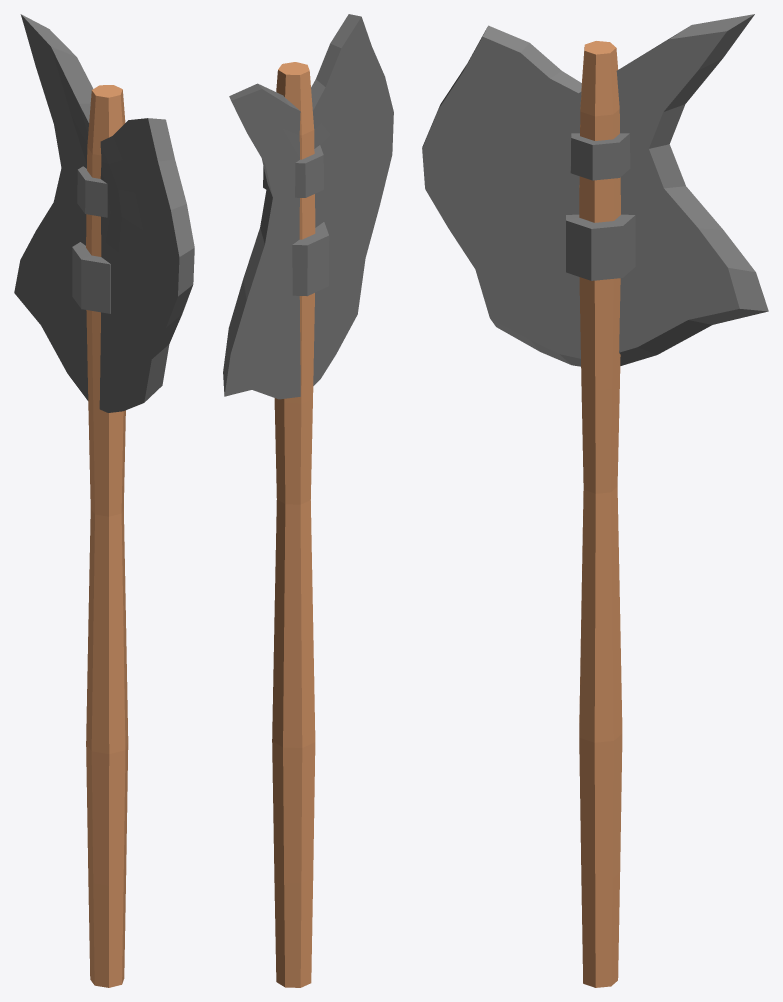
File: axe2.fbx
3 views of the same model, side by side, from view 1: azimuth 30°, elevation 25°; view 2: azimuth 150°, elevation 25°; view 3: azimuth 270°, elevation 25° (orthographic). The views are drawn at different scales.
Visible parts, largest first — view 1: axe2; view 2: axe2; view 3: axe2.
Boxes of the visible parts, x1,y1,x2,y2 form: axe2: [14, 14, 194, 987]; axe2: [223, 14, 393, 987]; axe2: [422, 14, 768, 987].
Size of the model in its own units: 6.4 by 92.62 by 30.32.
